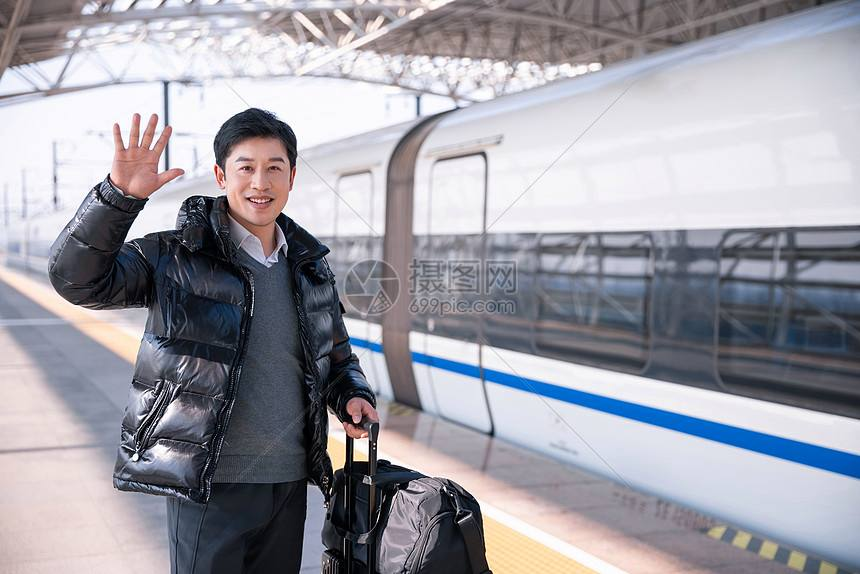no-phone: (110, 111, 187, 196)
